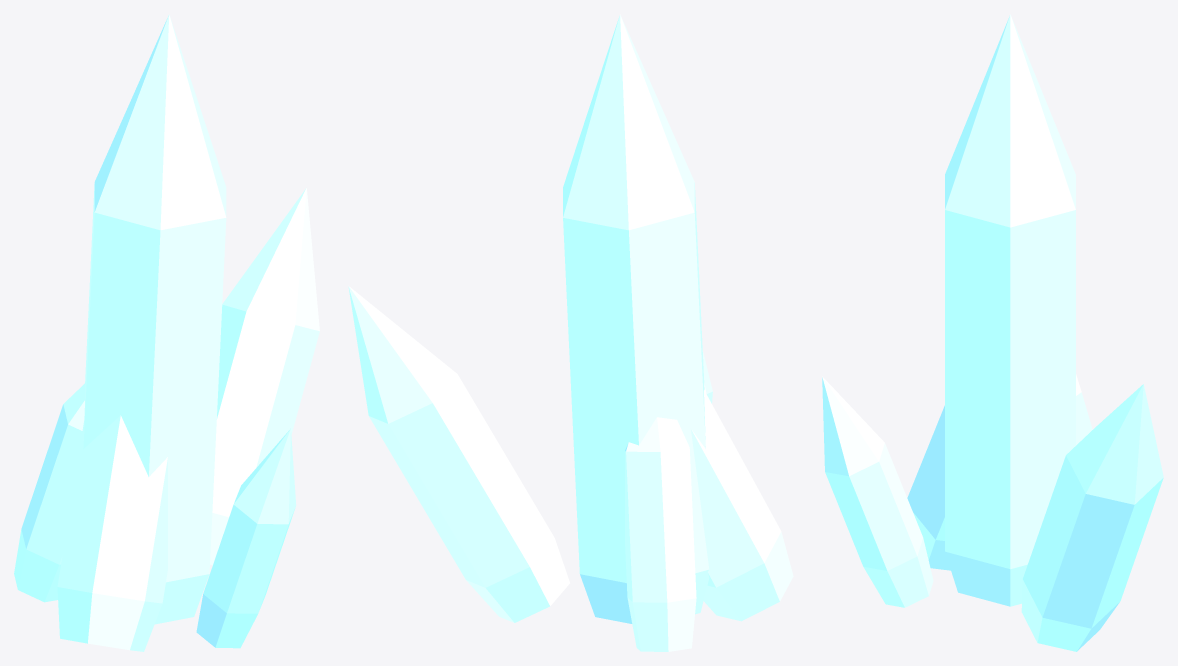
The model's file is quill_shard.glb.
The picture shows the model from 3 angles, left to right: view 1: azimuth 30°, elevation 25°; view 2: azimuth 150°, elevation 25°; view 3: azimuth 270°, elevation 25°; orthographic projection.
Visible parts, largest first — view 1: quill_shard; view 2: quill_shard; view 3: quill_shard.
Part boxes in pixels (left/top/right/bottom): quill_shard: left=14, top=14, right=319, bottom=651; quill_shard: left=348, top=14, right=793, bottom=651; quill_shard: left=822, top=14, right=1163, bottom=651.
Bounding box in the file's own units: 0.2315 × 0.391 × 0.2033.
